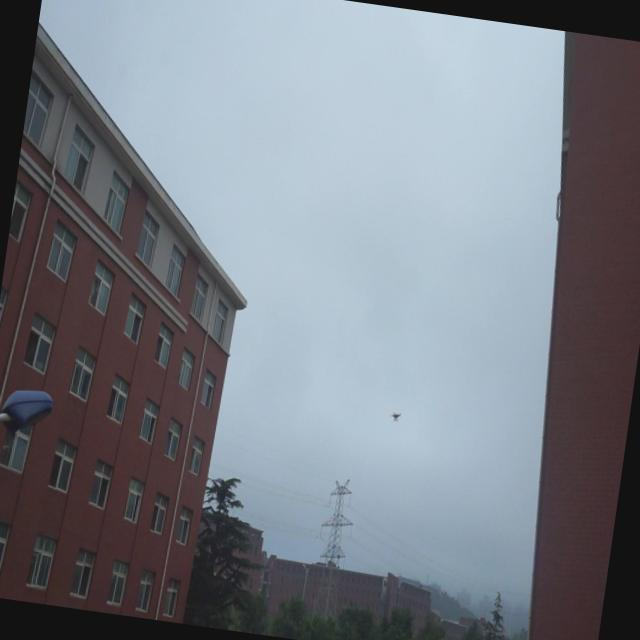drone: (388, 407, 402, 426)
